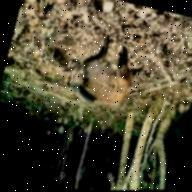boar: (54, 23, 142, 117)
